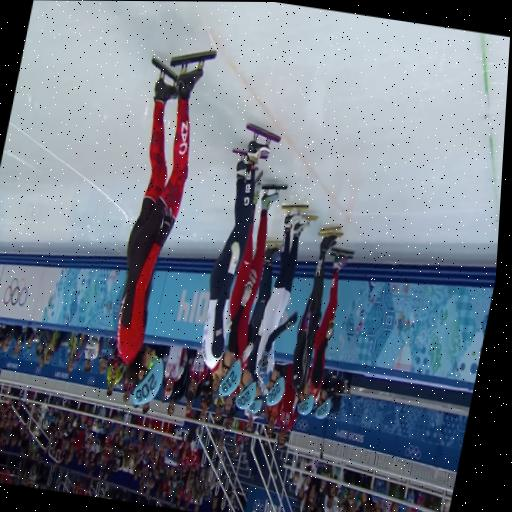Skater: (116, 51, 215, 403), (201, 124, 279, 395), (227, 182, 286, 408), (256, 204, 315, 404), (290, 226, 340, 414), (309, 249, 352, 418), (246, 240, 280, 383), (247, 322, 263, 413), (245, 363, 262, 413)
